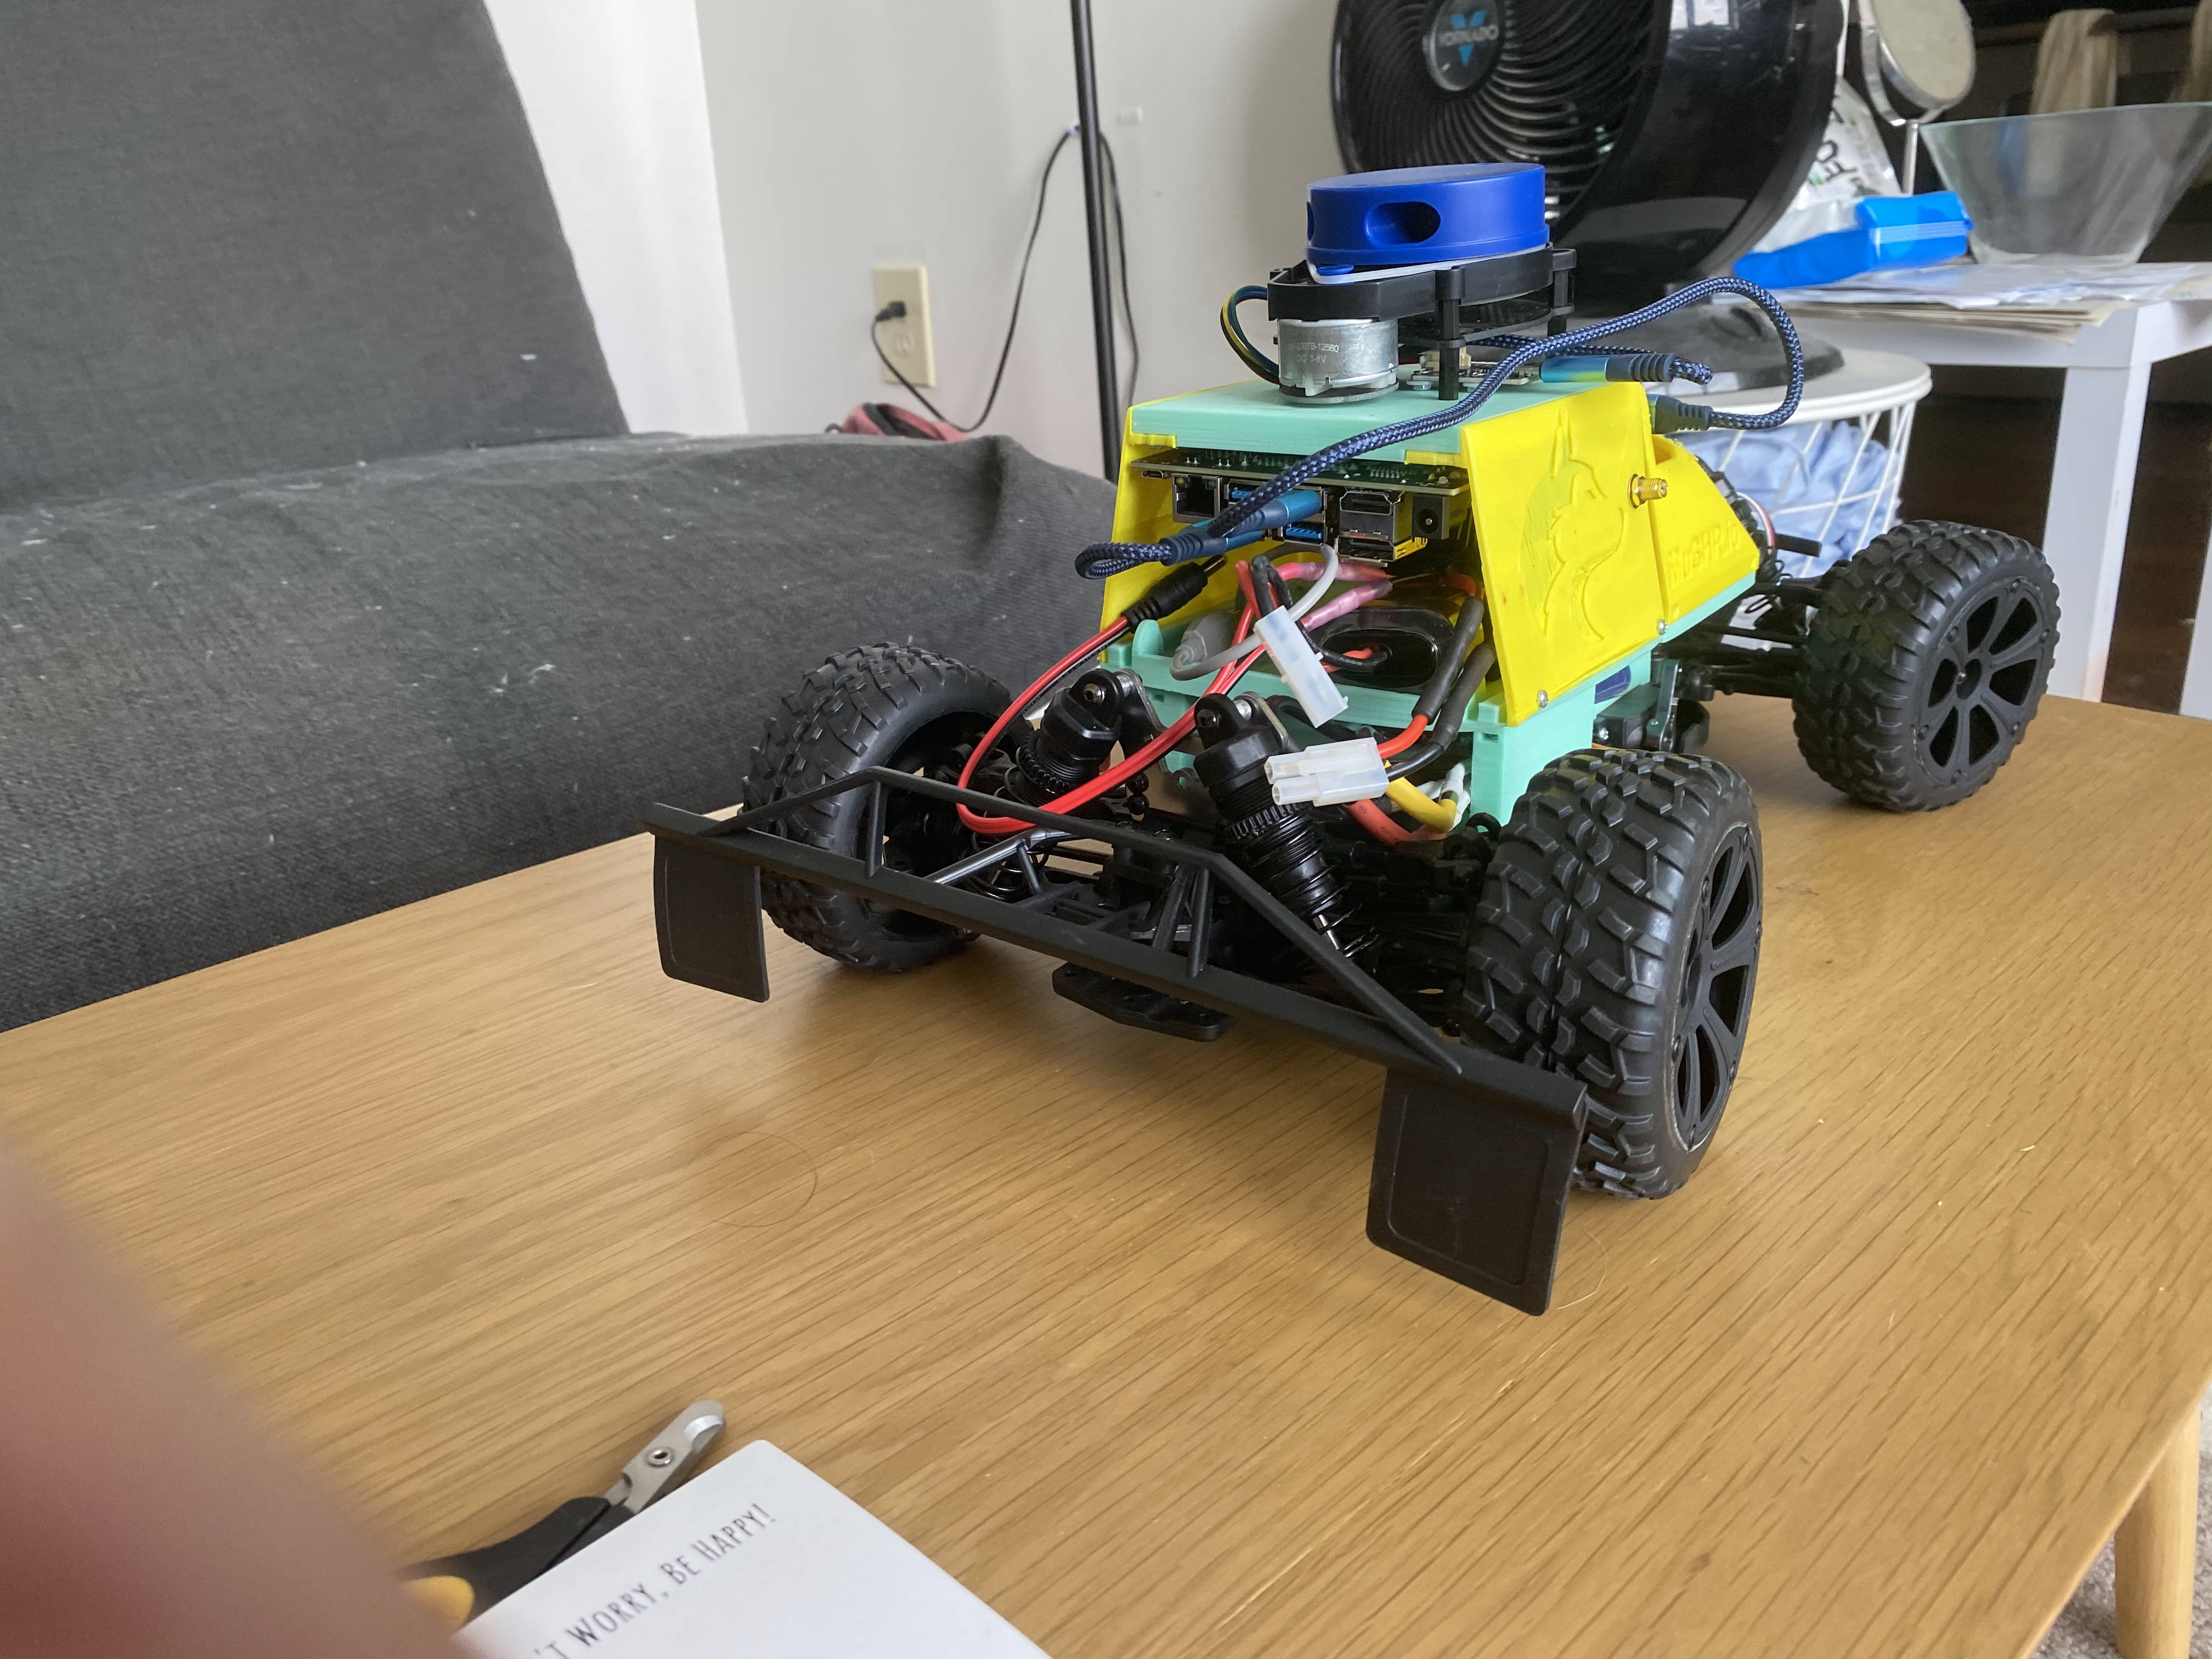mushr_car: (620, 164, 2069, 1316)
